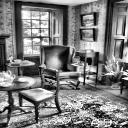chair_success: (14, 62, 66, 123), (30, 40, 86, 92)
